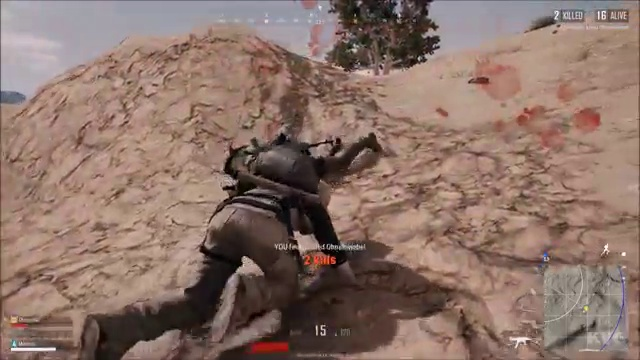Player: (189, 121, 395, 238)
